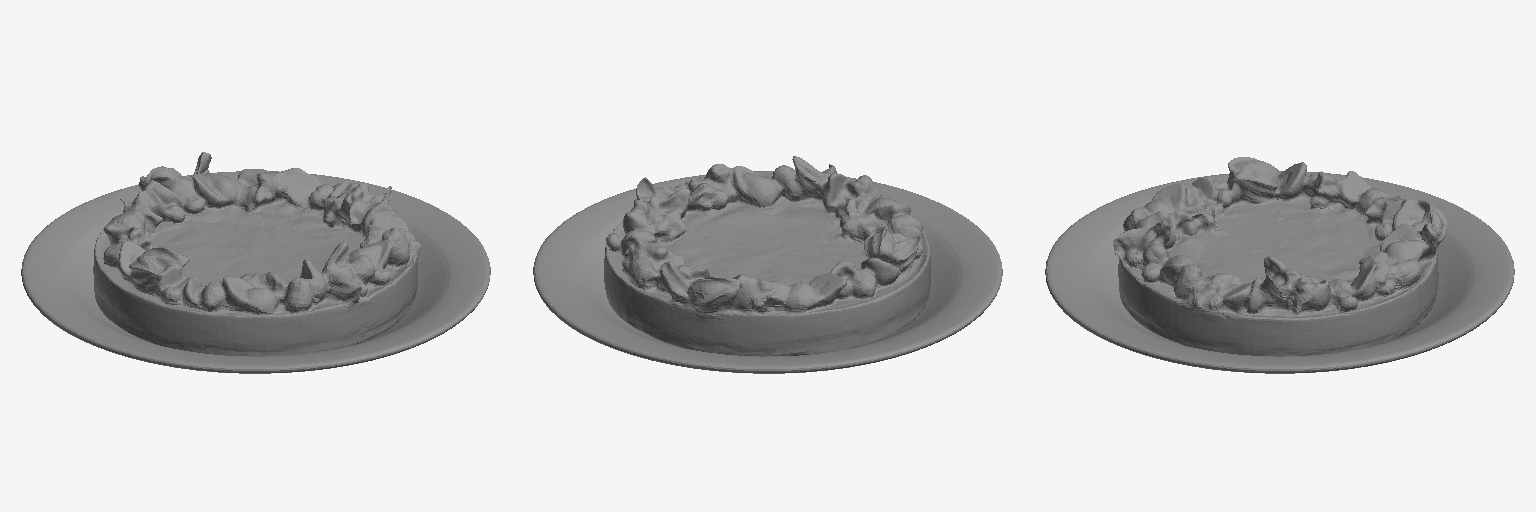
The model's file is Kake.obj.
The picture shows the model from 3 angles: view 1: azimuth 30°, elevation 25°; view 2: azimuth 150°, elevation 25°; view 3: azimuth 270°, elevation 25°; orthographic projection.
Parts seen in each view (by area): view 1: CL_LR_Baked1, Kake_e_Piatto; view 2: CL_LR_Baked1, Kake_e_Piatto; view 3: CL_LR_Baked1, Kake_e_Piatto.
Part boxes in pixels (x1,y1,x2,y2): CL_LR_Baked1: (93,152,420,356); Kake_e_Piatto: (21,171,490,373); CL_LR_Baked1: (604,156,930,356); Kake_e_Piatto: (533,171,1002,373); CL_LR_Baked1: (1113,157,1446,356); Kake_e_Piatto: (1045,171,1514,373).
Bounding box in the file's own units: 47.55 × 11.11 × 47.55.